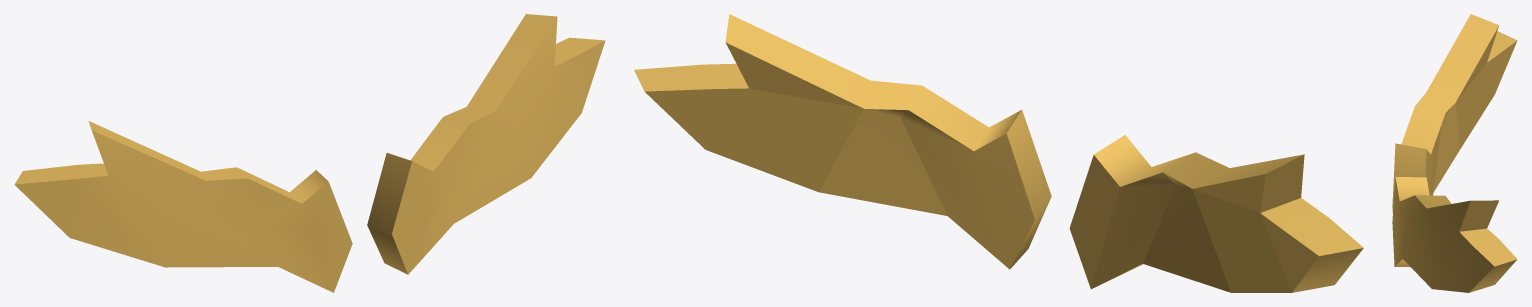
Rendered from Brow_Yellow_12.fbx.
3 views of the same model, side by side, from view 1: azimuth 30°, elevation 25°; view 2: azimuth 150°, elevation 25°; view 3: azimuth 270°, elevation 25° (orthographic). The views are drawn at different scales.
Visible parts, largest first — view 1: Brow_Yellow_12; view 2: Brow_Yellow_12; view 3: Brow_Yellow_12.
Part boxes in pixels (x1=…): Brow_Yellow_12: x1=14, y1=14, x2=605, y2=292; Brow_Yellow_12: x1=634, y1=14, x2=1363, y2=292; Brow_Yellow_12: x1=1392, y1=14, x2=1517, y2=292.
Bounding box in the file's own units: 50.7 × 14.59 × 11.32.
